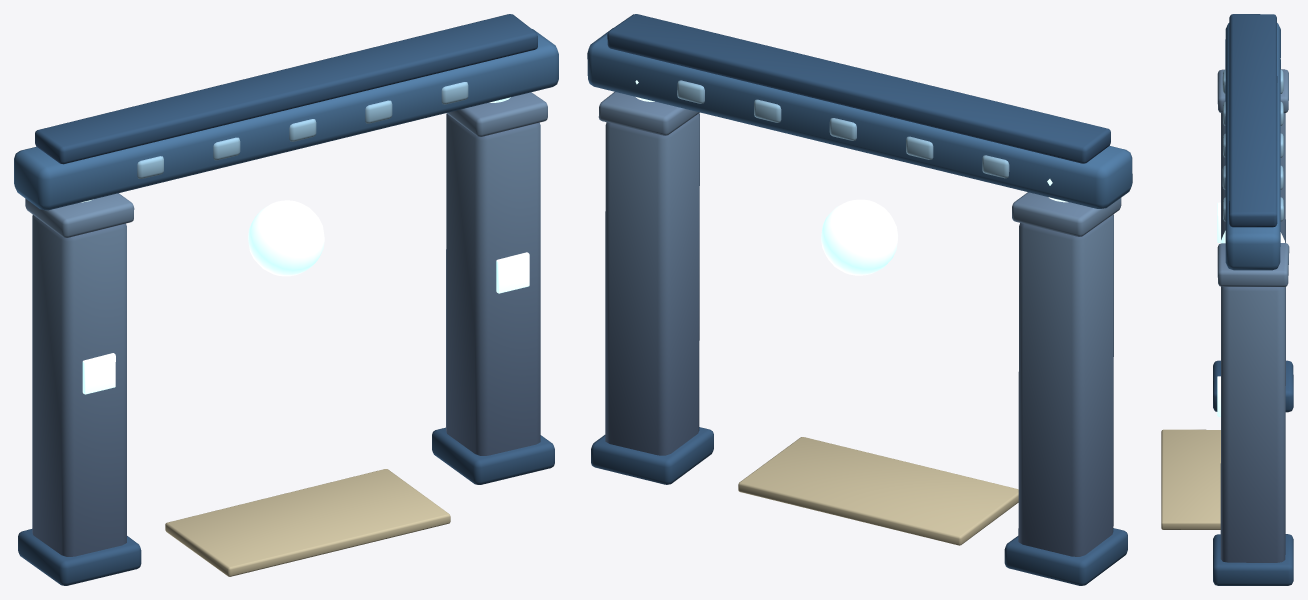
3 renders of one model, left to right at view 1: azimuth 30°, elevation 25°; view 2: azimuth 150°, elevation 25°; view 3: azimuth 270°, elevation 25°, orthographic. The views are drawn at different scales.
Visible parts, largest first — view 1: gate_7becbac8; view 2: gate_7becbac8; view 3: gate_7becbac8.
Boxes of the visible parts, x1,y1,x2,y2 form: gate_7becbac8: (14,14,558,585); gate_7becbac8: (587,14,1132,585); gate_7becbac8: (1161,14,1293,585).
Size of the model in its own units: 5.61 by 4.45 by 1.44.
